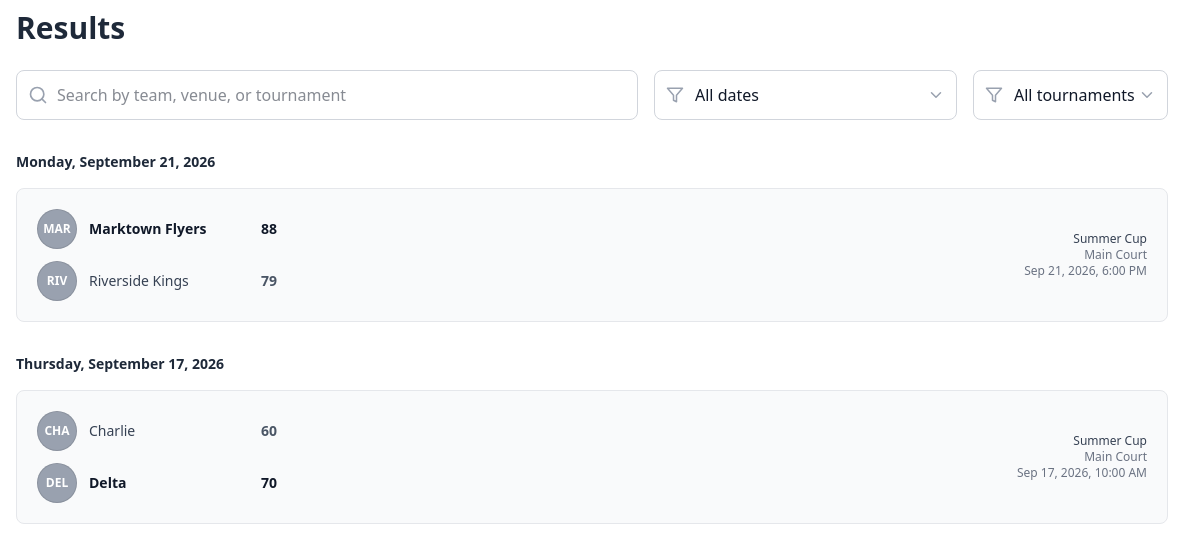
Test: Results › filters to one day, and goes back to page 1
Select "Thursday, September 17, 2026" in the 1st dropdown named "Filter by date" at point(806, 95), box [654,70,957,120]
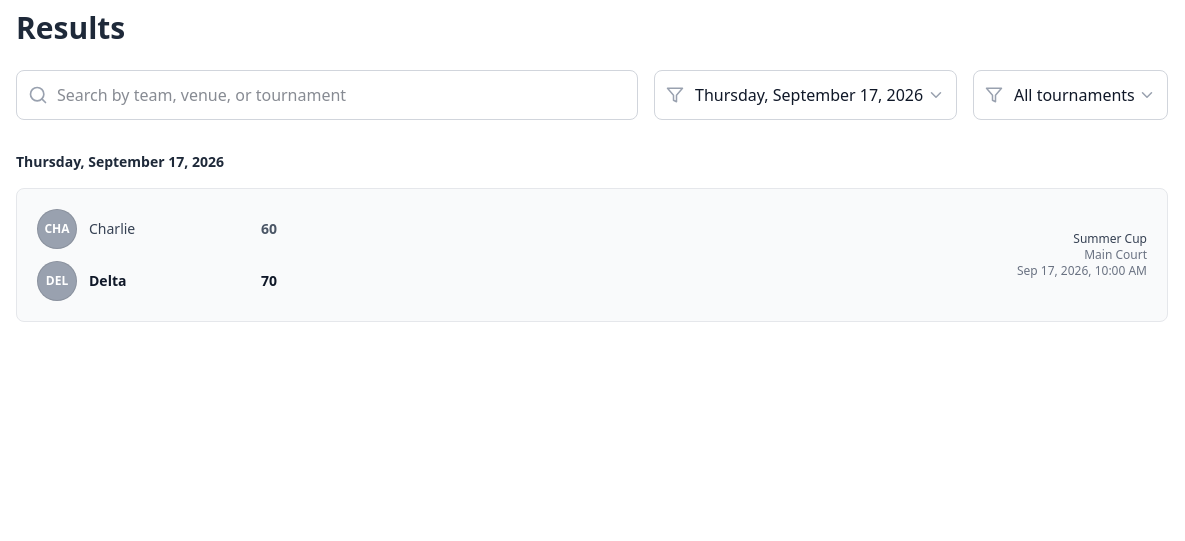
expect the text "Charlie" is shown: met, box [89,219,135,238]
expect the number of links is 1: met, box [16,188,1168,322]
